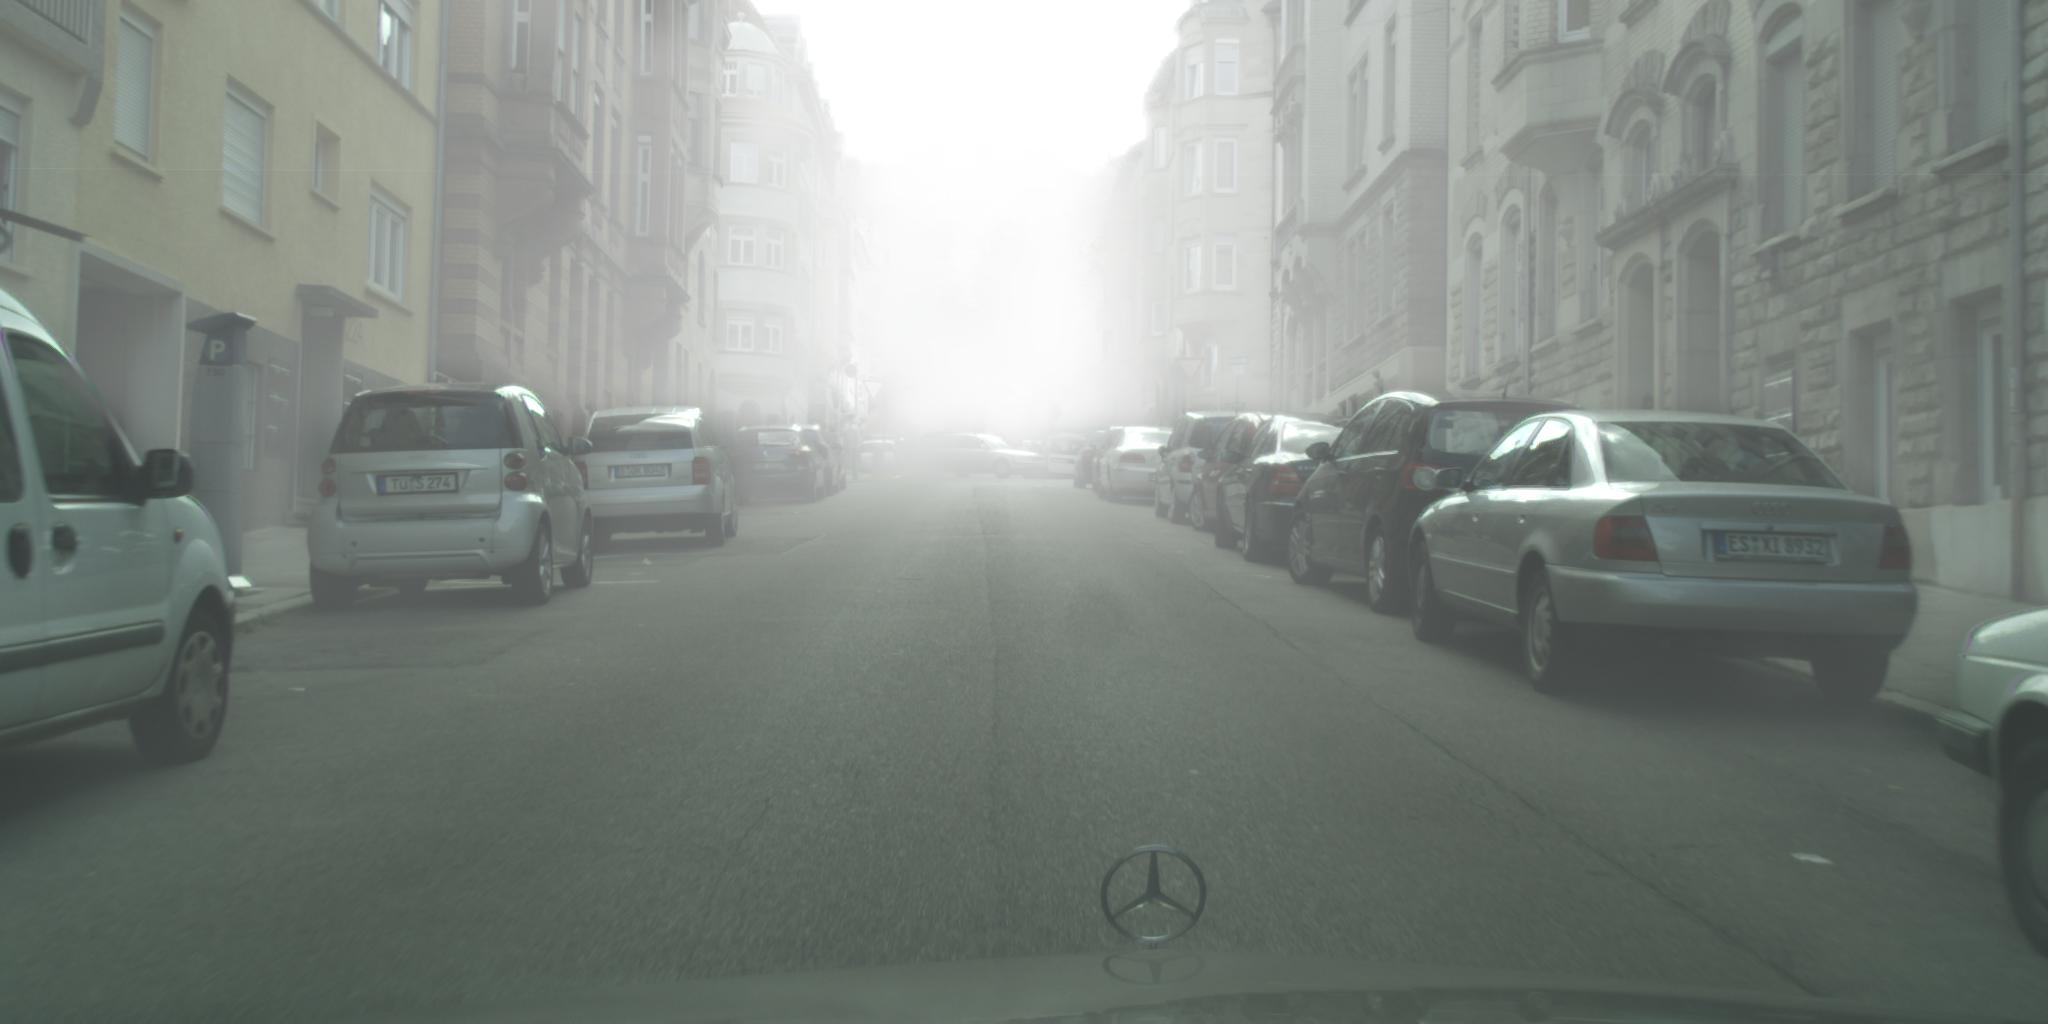car: (1404, 408, 1924, 708), (1, 281, 242, 771), (1283, 389, 1591, 613), (308, 381, 600, 615), (1934, 603, 2045, 970), (567, 404, 746, 552), (1216, 410, 1371, 564), (1187, 411, 1290, 532), (1155, 410, 1249, 525), (910, 431, 1048, 481), (1034, 426, 1108, 482), (1074, 428, 1115, 488)
